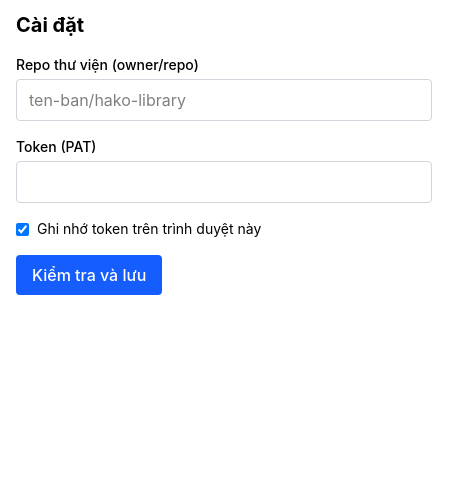
Test case: Setup › offers library creation when only library is missing
Type "me/lib" into the field labelled "Repo thư viện (owner/repo)" at (224, 100), box x1=16 y1=79 x2=432 y2=121
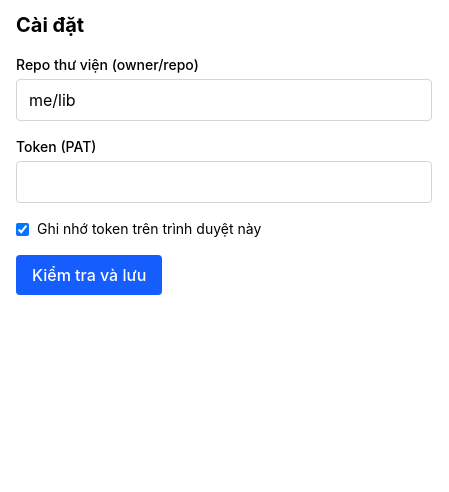
Type "tok" into the password field labelled "Token (PAT)" at (224, 182), box x1=16 y1=161 x2=432 y2=203
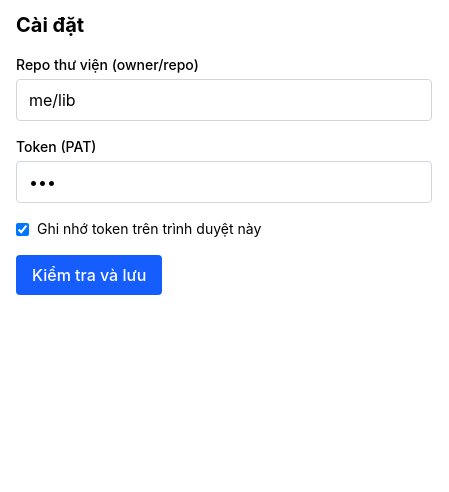
Click the button "Kiểm tra và lưu" at (89, 275), box x1=16 y1=255 x2=162 y2=295
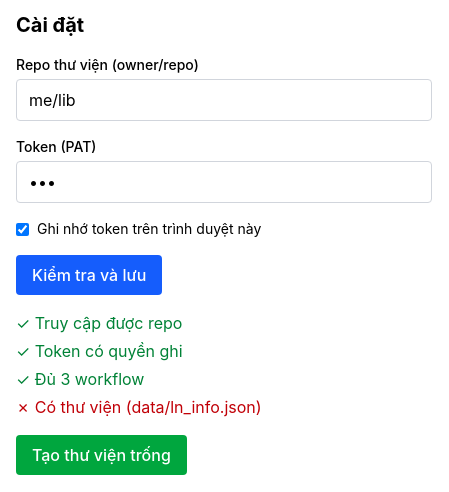
Expected: the button "Tạo thư viện trống" is shown, x1=16 y1=435 x2=187 y2=475
Expected: the list item "✗ Có thư viện (data/ln_info.json)" is shown, x1=16 y1=397 x2=262 y2=417
